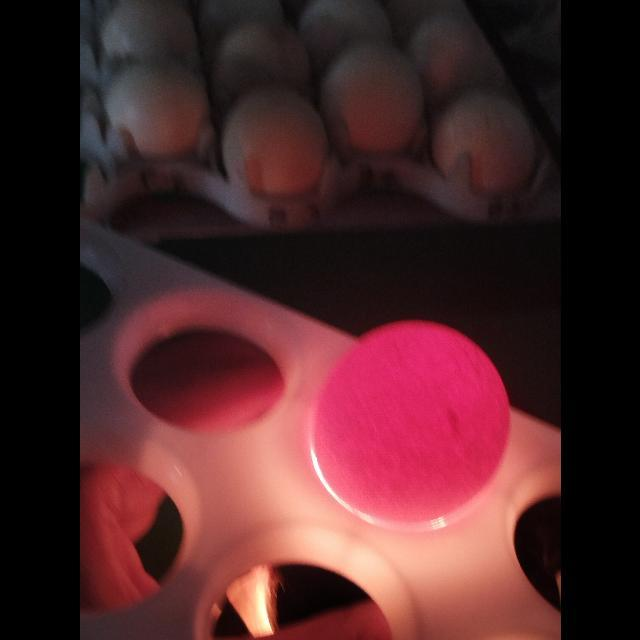Infertile: (306, 315, 516, 527)
